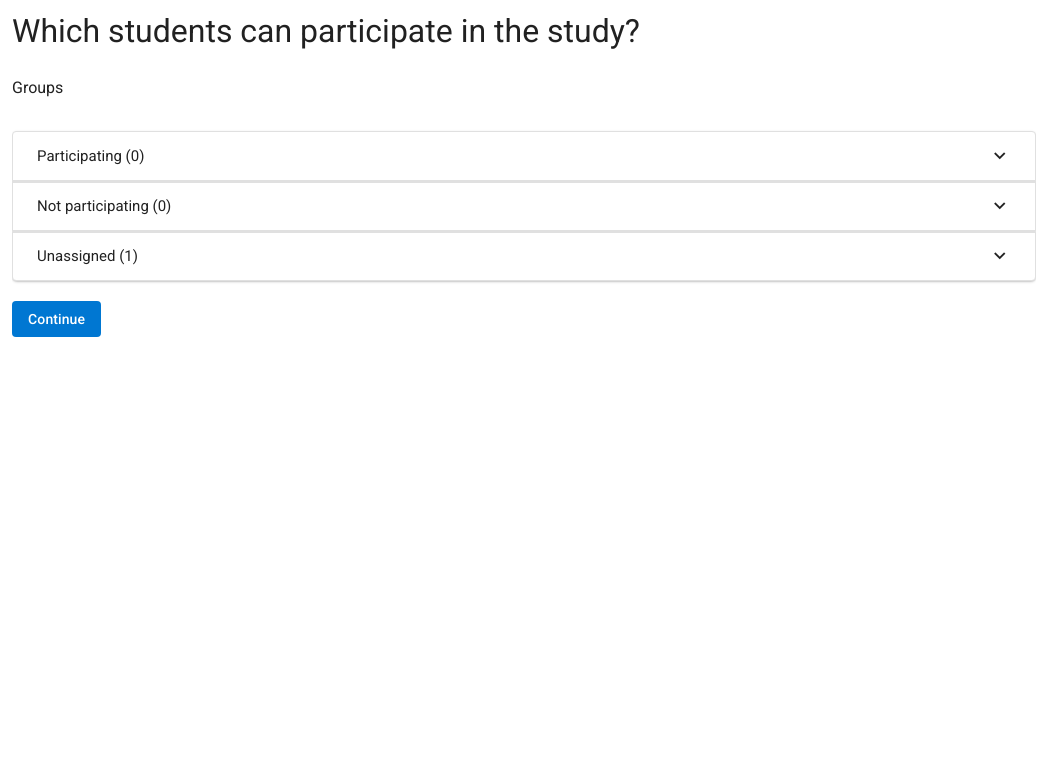
Scenario: ParticipationTypeManualSelection › moves an unassigned participant into Participating through ListParticipants
Step 1. Click the button "Unassigned (1)" → coordinates (87, 256), box top-left (13, 232), bottom-right (1035, 280)
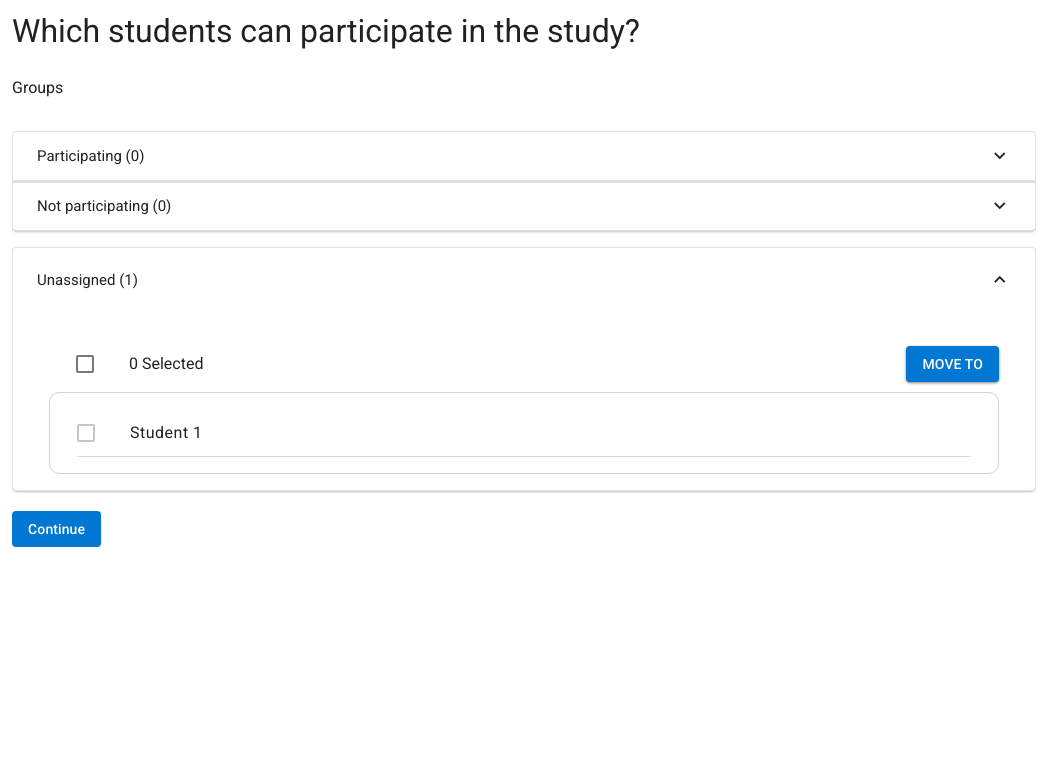
Step 2. Click the list item "Student 1" → coordinates (524, 433), box top-left (58, 409), bottom-right (990, 457)
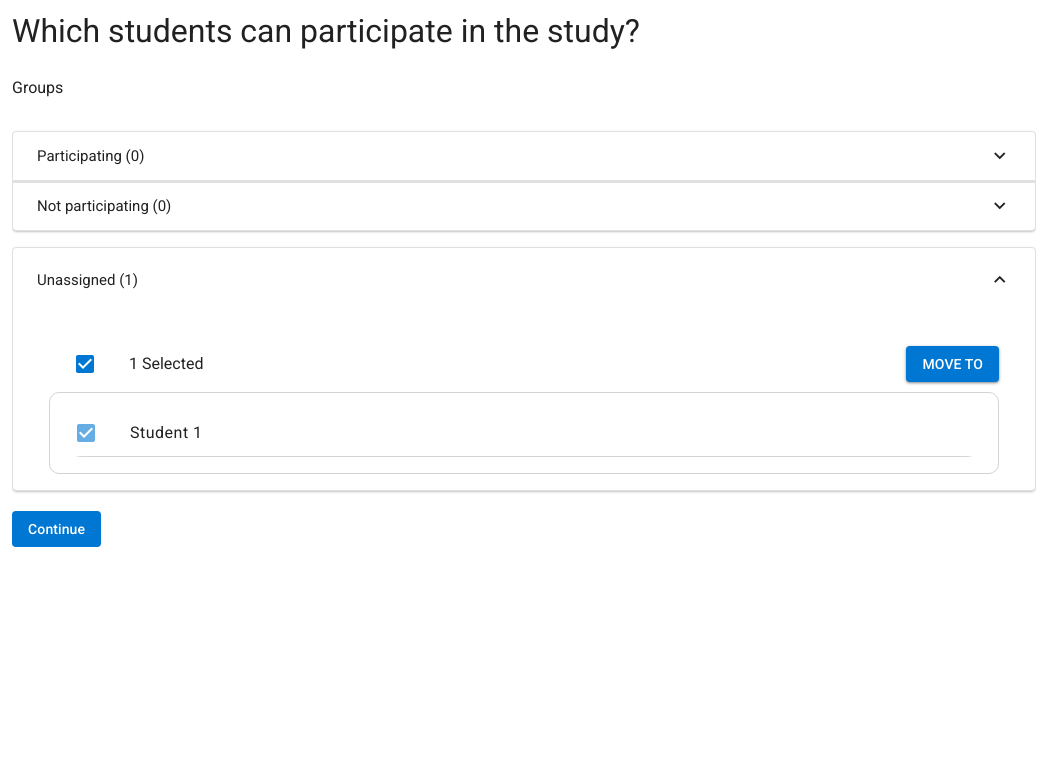
Step 3. Click the button "MOVE TO" → coordinates (953, 364), box top-left (906, 346), bottom-right (999, 382)
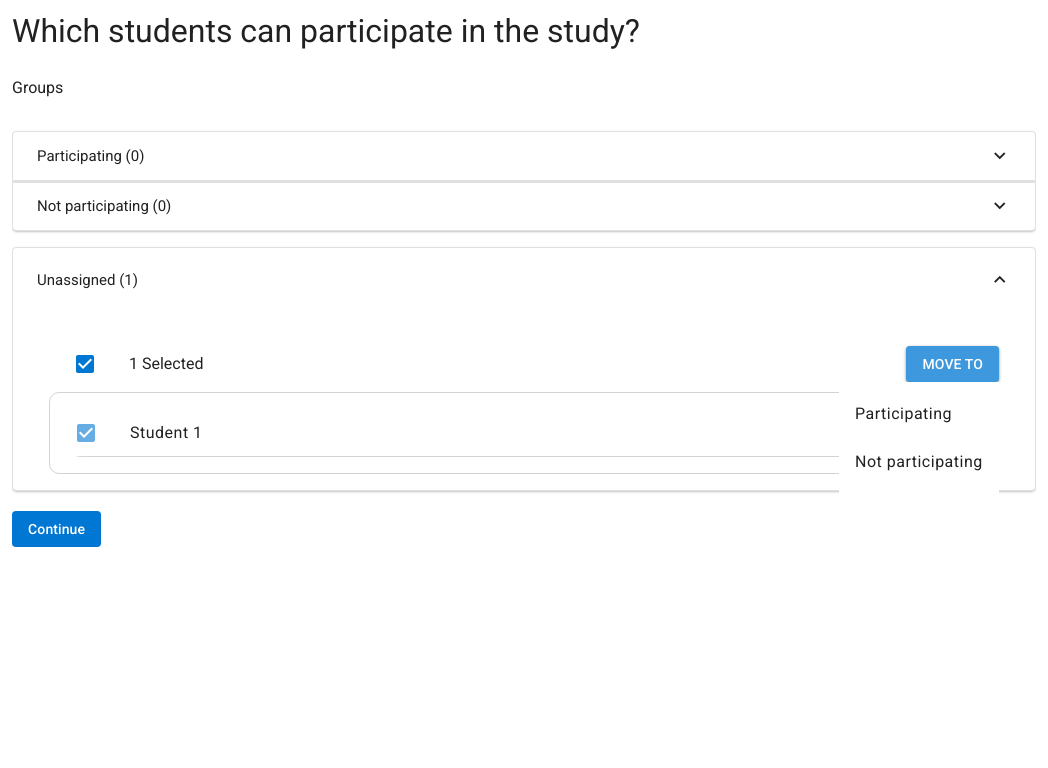
Step 4. Click the text "Participating" → coordinates (904, 414), box top-left (855, 404), bottom-right (952, 423)
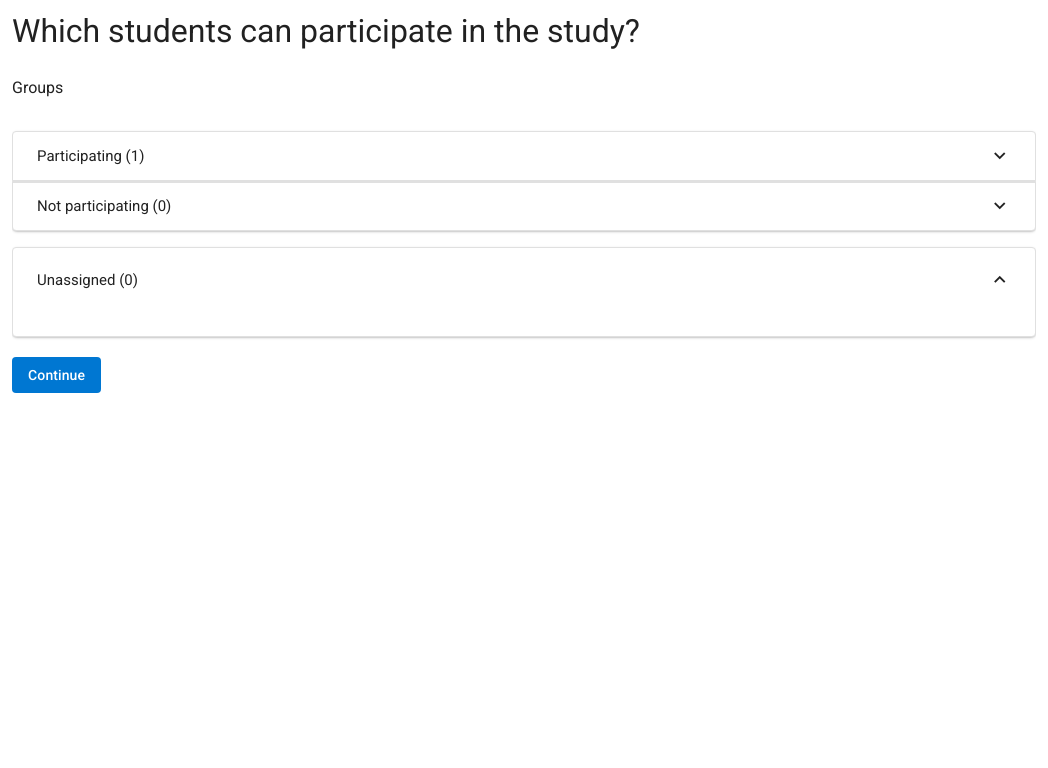
Check: the text "Participating (1)" is shown, box top-left (13, 132), bottom-right (1035, 180)
Check: the text "Unassigned (0)" is shown, box top-left (13, 248), bottom-right (1035, 312)
